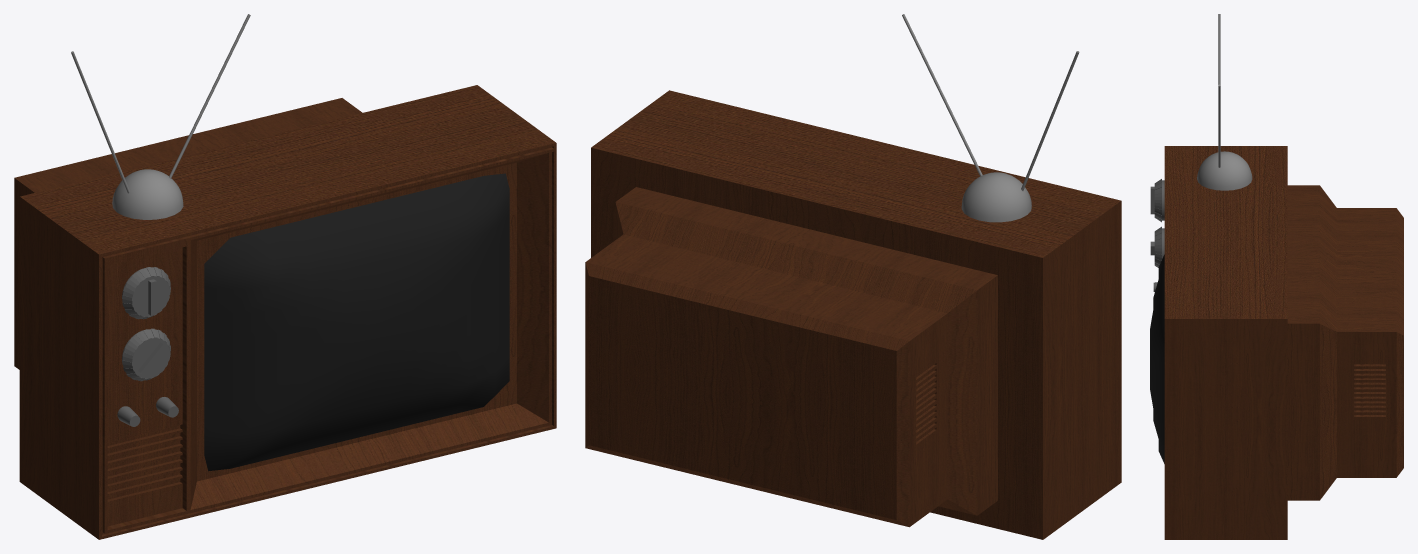
The picture shows the model from 3 angles, left to right: view 1: azimuth 30°, elevation 25°; view 2: azimuth 150°, elevation 25°; view 3: azimuth 270°, elevation 25°; orthographic projection. The views are drawn at different scales.
Parts seen in each view (by area): view 1: body, screen, antena2, button2, button3, antena1; view 2: body, antena2, antena1; view 3: body, screen, antena2, button2, button3.
Part boxes in pixels (<box>): body: <box>14,85,556,539</box>; screen: <box>204,173,509,471</box>; antena2: <box>112,169,183,219</box>; button2: <box>122,267,170,319</box>; button3: <box>122,328,170,381</box>; antena1: <box>169,14,250,178</box>; body: <box>585,90,1121,539</box>; antena2: <box>961,172,1031,222</box>; antena1: <box>902,14,982,176</box>; body: <box>1164,146,1403,539</box>; screen: <box>1150,254,1164,463</box>; antena2: <box>1197,151,1252,190</box>; button2: <box>1154,179,1164,222</box>; button3: <box>1154,226,1164,267</box>.
Bounding box in the file's own units: 2.25 × 2.17 × 1.4.
Materials: 4 (1 with a texture image).
